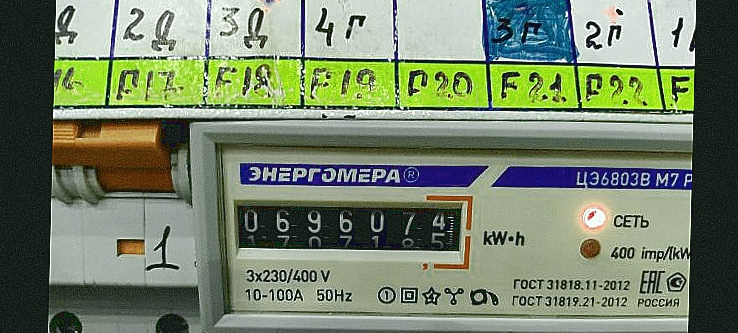0: (241, 207, 261, 232), (368, 207, 386, 233)
4: (430, 207, 447, 230)
5: (430, 230, 446, 251)
6: (336, 206, 355, 233), (273, 207, 292, 232)
7: (400, 209, 417, 235)
9: (305, 206, 322, 233)
screen: (222, 186, 477, 272)
